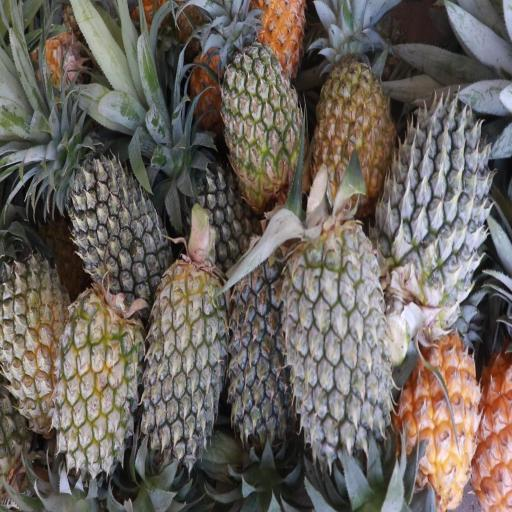------------------------------: (59, 286, 144, 478), (221, 34, 304, 209), (0, 256, 71, 430)
Pineapple - v8 v1: (397, 342, 479, 511), (312, 50, 396, 210)
